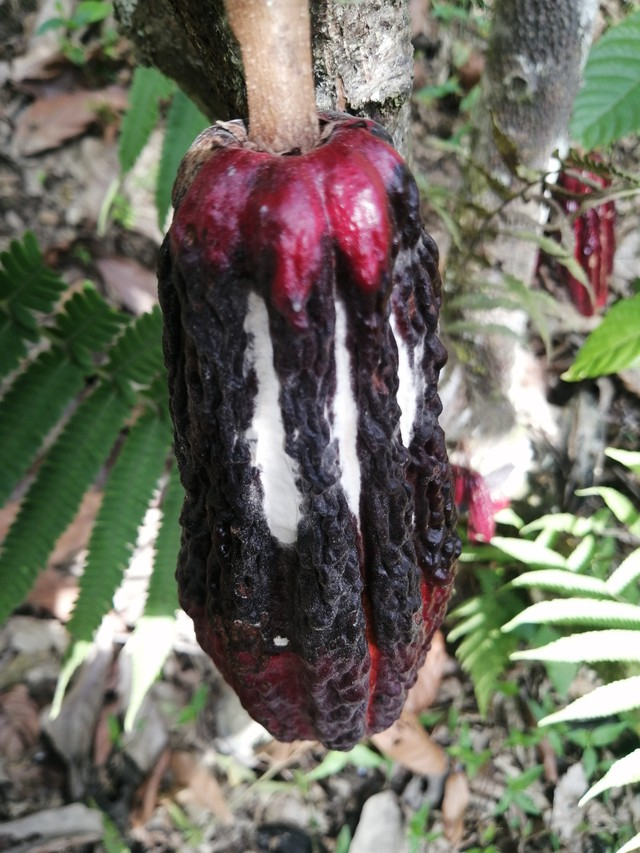moniliophthora roreri: (136, 84, 490, 771)
